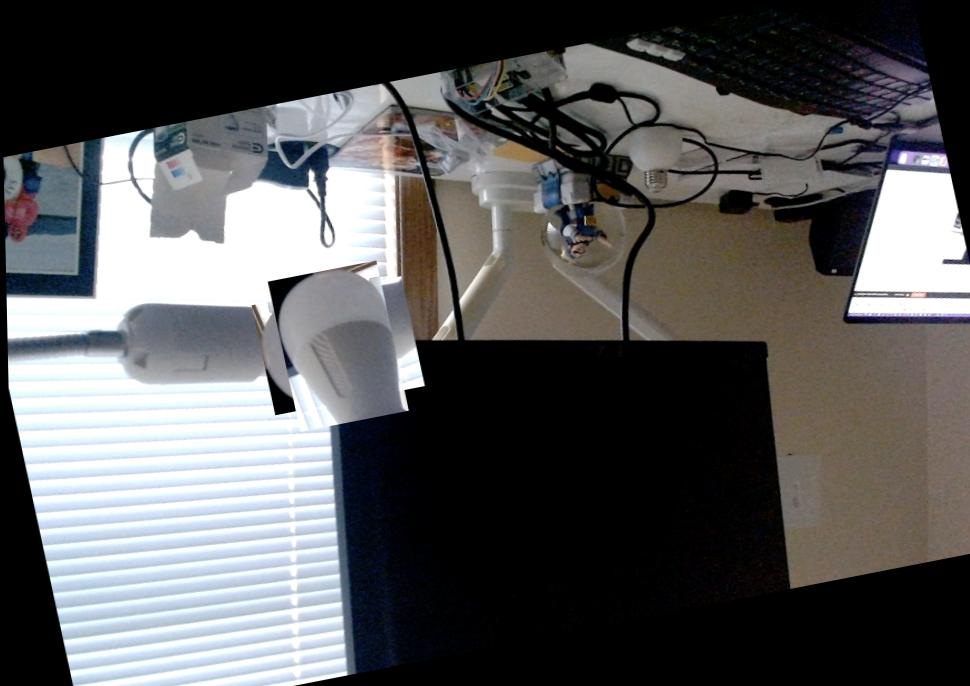Fan: (257, 268, 415, 423)
